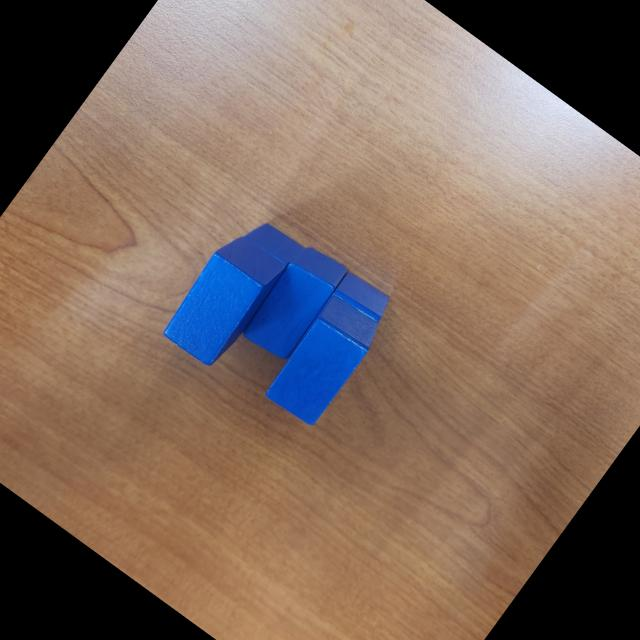blue: (153, 226, 290, 374), (258, 290, 386, 432), (237, 238, 351, 366), (299, 268, 395, 371), (242, 212, 306, 270)
